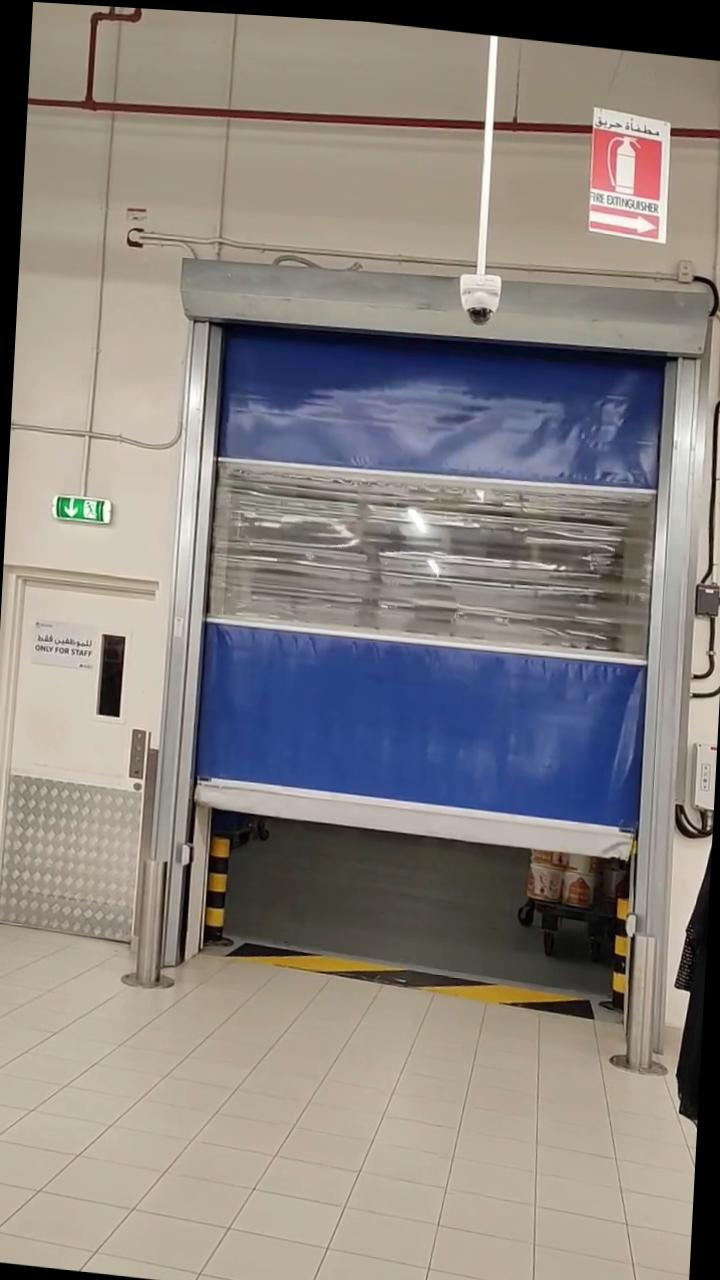Strip: (236, 928, 606, 1021)
